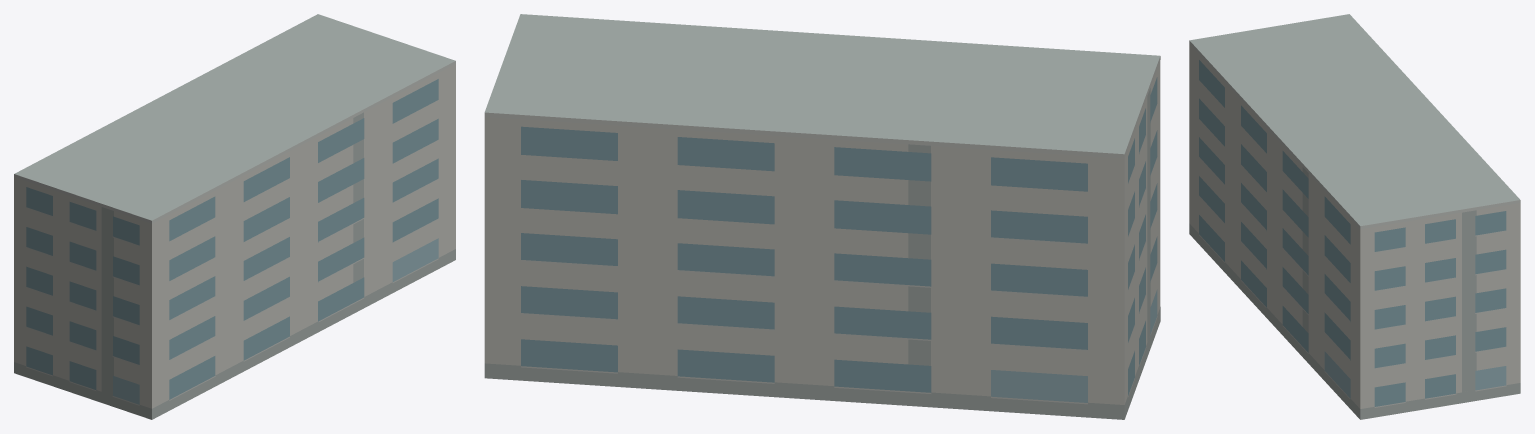
File: residential-5ab66ee6-c715-4aa9-be3f-50a1a316e239.glb
3 renders of one model, left to right at view 1: azimuth 30°, elevation 25°; view 2: azimuth 150°, elevation 25°; view 3: azimuth 270°, elevation 25°, orthographic. The views are drawn at different scales.
Parts seen in each view (by area): view 1: residential-5ab66ee6-c715-4aa9-be3f-50a1a316e239.tmp; view 2: residential-5ab66ee6-c715-4aa9-be3f-50a1a316e239.tmp; view 3: residential-5ab66ee6-c715-4aa9-be3f-50a1a316e239.tmp.
Part boxes in pixels (x1,y1,x2,y2): residential-5ab66ee6-c715-4aa9-be3f-50a1a316e239.tmp: [14, 14, 455, 419]; residential-5ab66ee6-c715-4aa9-be3f-50a1a316e239.tmp: [484, 14, 1160, 419]; residential-5ab66ee6-c715-4aa9-be3f-50a1a316e239.tmp: [1189, 14, 1520, 419].
Bounding box in the file's own units: 35.85 × 15.25 × 23.64.
